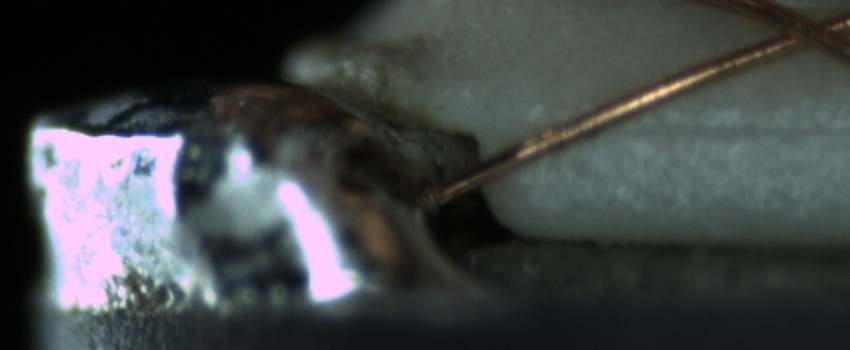CL: (757, 1, 847, 59)
DL: (606, 94, 845, 165)
